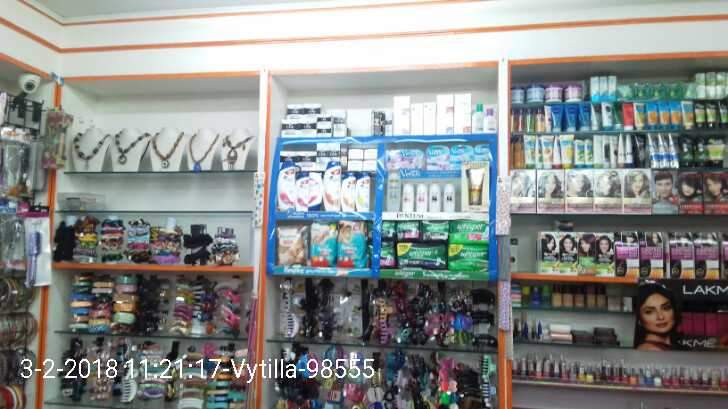venus: (426, 145, 451, 170), (405, 149, 426, 170), (451, 145, 475, 162), (386, 149, 405, 167), (475, 143, 488, 162)
